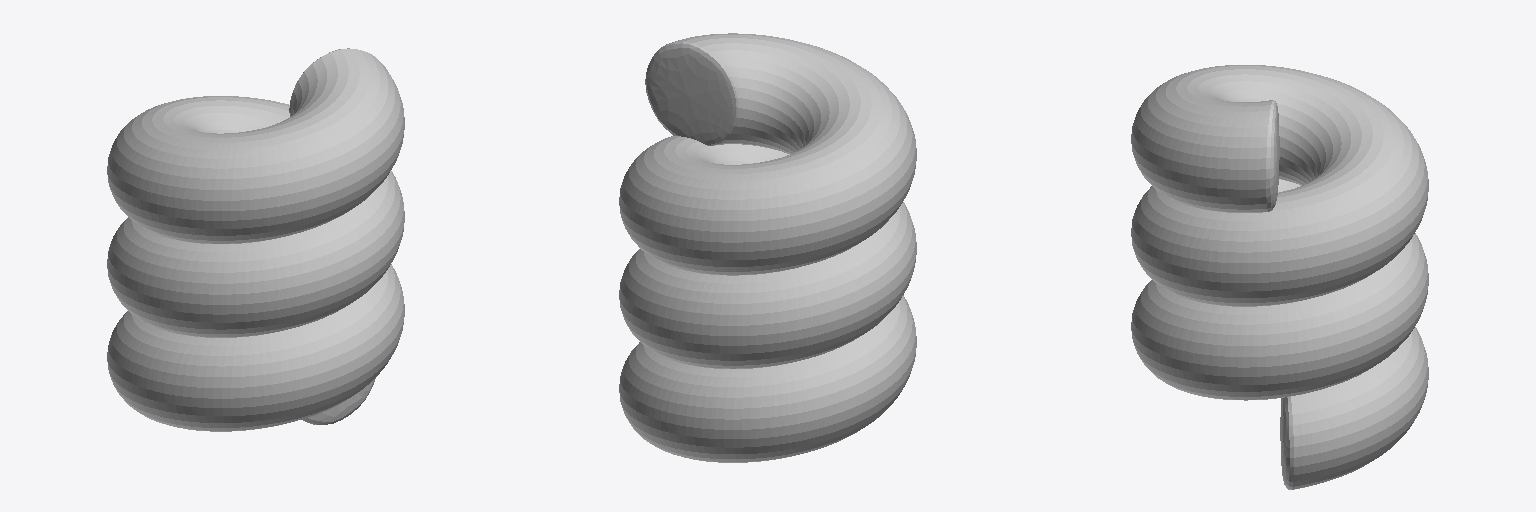
Rendered from helix_40.0.obj.
3 views of the same model, side by side, from view 1: azimuth 30°, elevation 25°; view 2: azimuth 150°, elevation 25°; view 3: azimuth 270°, elevation 25° (orthographic).
Parts seen in each view (by area): view 1: helix:pHelix1; view 2: helix:pHelix1; view 3: helix:pHelix1.
Part boxes in pixels (left/top/right/bottom): helix:pHelix1: left=107, top=48, right=404, bottom=431; helix:pHelix1: left=619, top=33, right=916, bottom=462; helix:pHelix1: left=1131, top=65, right=1428, bottom=489.
Size of the model in its own units: 1.92 by 2.71 by 1.92.